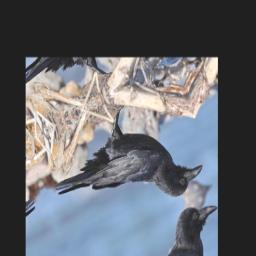Crow: (38, 75, 208, 256)
